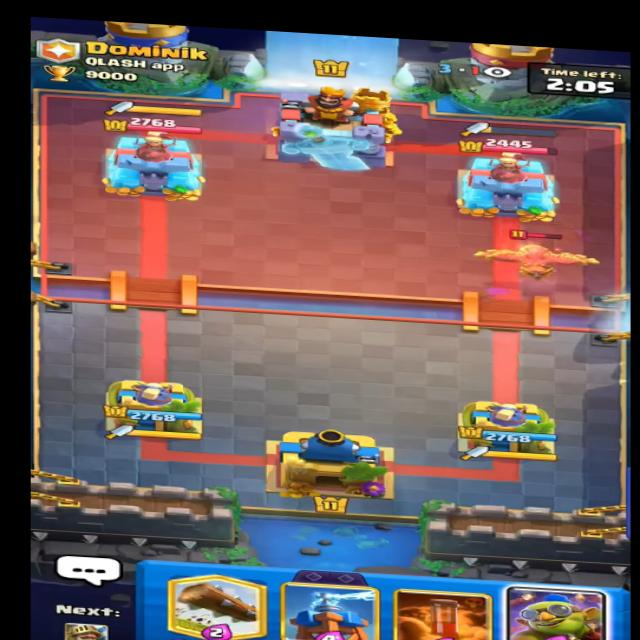phoenix: (472, 223, 606, 285)
